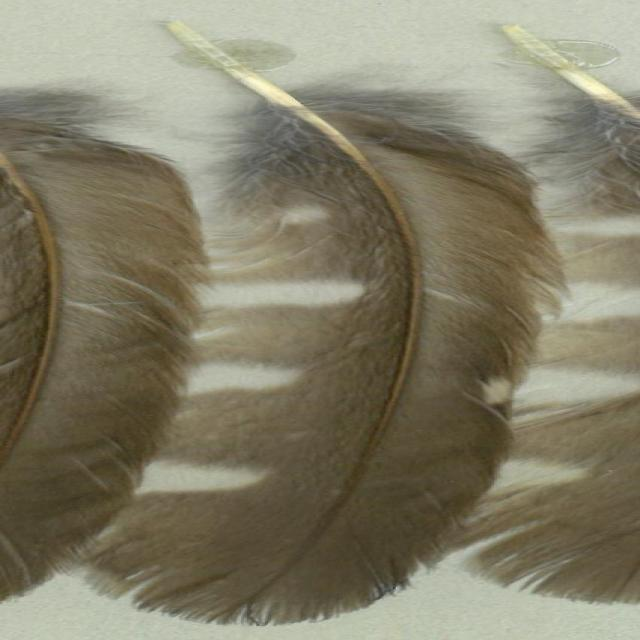feather: (60, 14, 562, 630)
